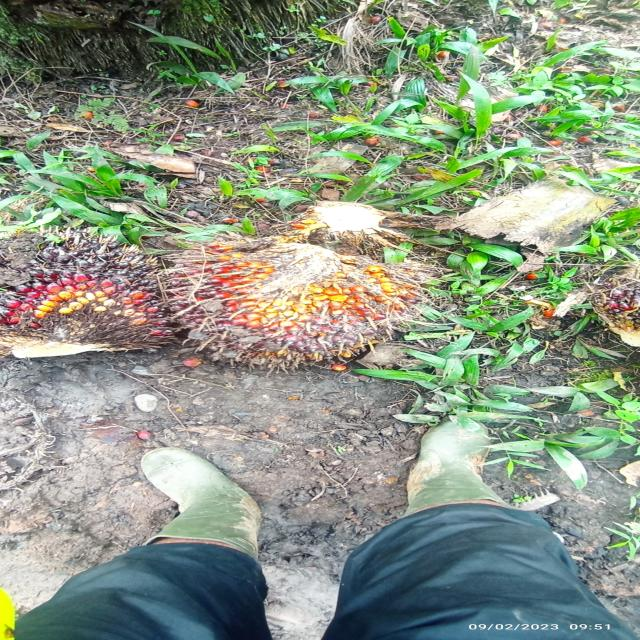fraksi 00: (0, 222, 196, 384)
fraksi 3: (176, 223, 476, 393)
